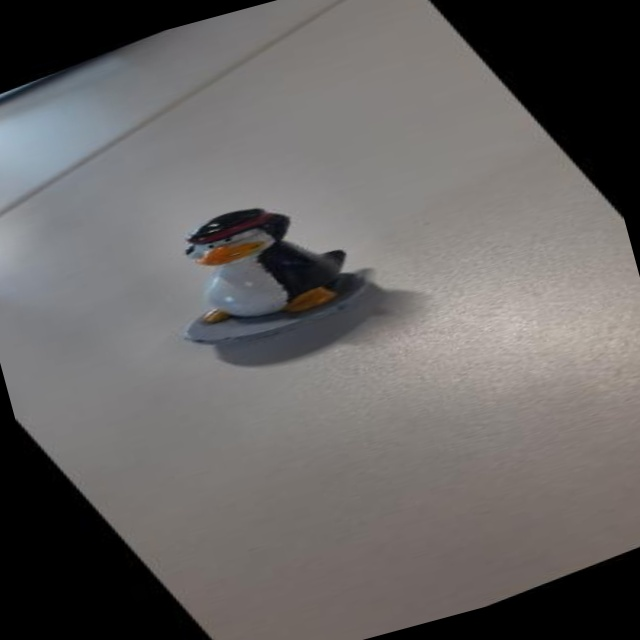Penguin: (99, 153, 419, 394)
